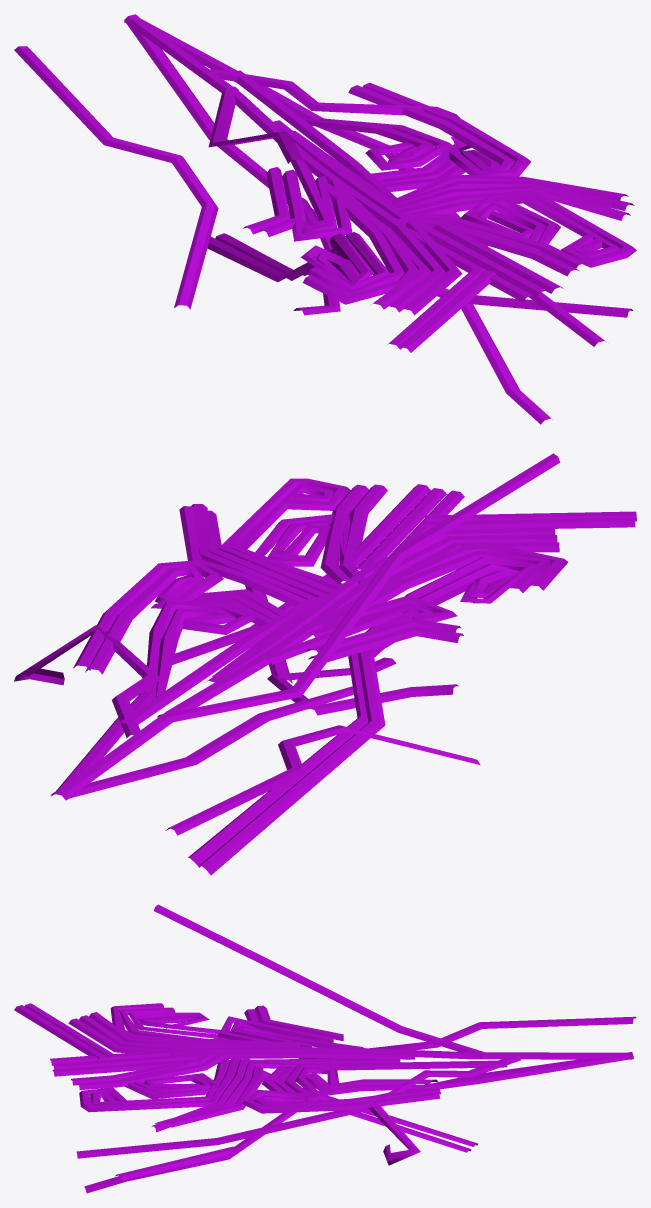
Rendered from BedroomFloorMesh.fbx.
3 views of the same model, one above another, from view 1: azimuth 30°, elevation 25°; view 2: azimuth 150°, elevation 25°; view 3: azimuth 270°, elevation 25° (orthographic). The views are drawn at different scales.
Visible parts, largest first — view 1: Floor3DMesh; view 2: Floor3DMesh; view 3: Floor3DMesh.
Boxes of the visible parts, x1=… form: Floor3DMesh: x1=14, y1=14, x2=636, y2=424; Floor3DMesh: x1=14, y1=453, x2=636, y2=875; Floor3DMesh: x1=14, y1=904, x2=636, y2=1193.
Size of the model in its own units: 85.16 by 61.49 by 165.
